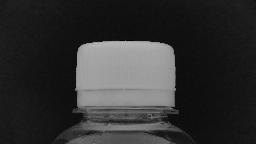Good Cap: (68, 35, 182, 120)
